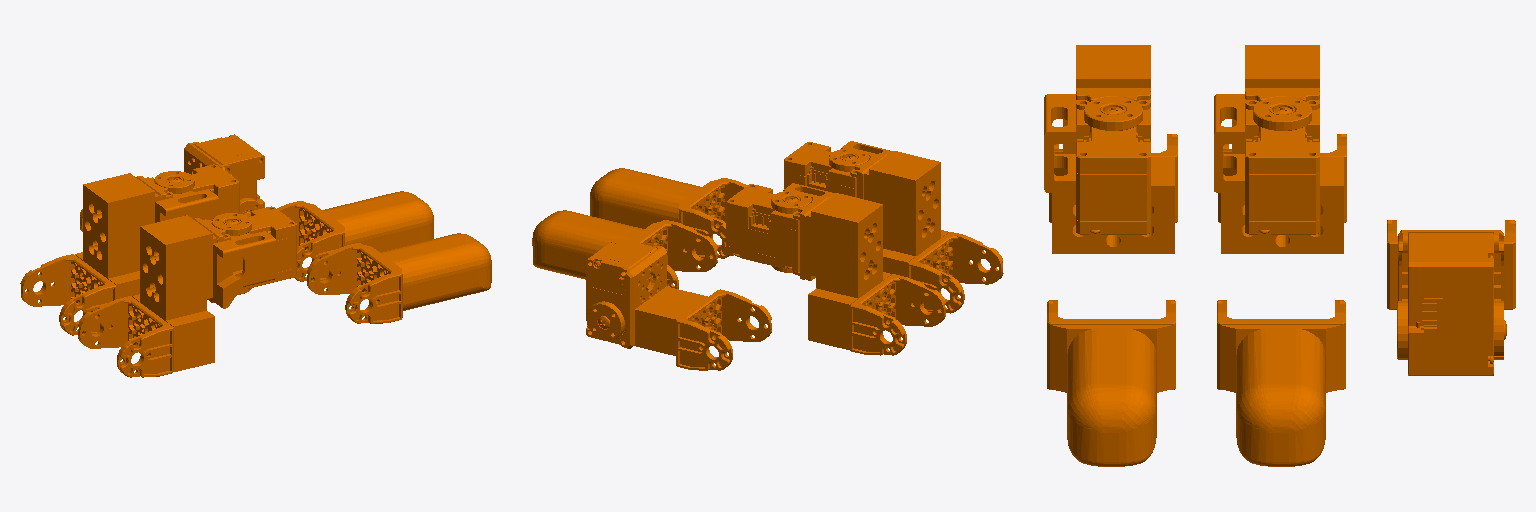
robot.urdf — onshape:
<robot name="onshape">
  <link name="palm_lower">
    <inertial>
      <origin xyz="0.0 0.0 0.0" rpy="0.0 -0.0 0.0"/>
      <mass value="0.237"/>
      <inertia ixx="0.000354094" ixy="-1.193e-06" ixz="-2.445e-06" iyy="0.000260915" iyz="-2.905e-06" izz="0.000529257"/>
    </inertial>
    <visual>
      <geometry>
        <mesh filename="../assets/leap/leap_hand/palm_lower.stl"/>
      </geometry>
      <origin xyz="-0.020095249652862544 0.025757756134899473 -0.034722403578460216" rpy="0.0 -0.0 0.0"/>
      <material name="palm_lower_material">
        <color rgba="0.6039215686274509 0.14901960784313725 0.14901960784313725 1.0"/>
      </material>
    </visual>
    <collision>
      <geometry>
        <mesh filename="../assets/leap/leap_hand/palm_lower.stl"/>
      </geometry>
      <origin xyz="-0.020095249652862544 0.025757756134899473 -0.034722403578460216" rpy="0.0 -0.0 0.0"/>
    </collision>
  </link>
  <link name="mcp_joint">
    <inertial>
      <origin xyz="0.0 0.0 0.0" rpy="0.0 -0.0 0.0"/>
      <mass value="0.044"/>
      <inertia ixx="1.1499e-05" ixy="3.049e-06" ixz="1.21e-07" iyy="7.796e-06" iyz="1.12e-07" izz="1.4759e-05"/>
    </inertial>
    <visual>
      <geometry>
        <mesh filename="../assets/leap/leap_hand/mcp_joint.stl"/>
      </geometry>
      <origin xyz="0.008406902261174496 0.0077662438597169954 0.014657354985032912" rpy="1.6375789613221e-15 -1.021047330249102e-30 1.7177968783327987e-31"/>
      <material name="mcp_joint_material">
        <color rgba="0.8666666666666667 0.8666666666666667 0.050980392156862744 1.0"/>
      </material>
    </visual>
    <collision>
      <geometry>
        <mesh filename="../assets/leap/leap_hand/mcp_joint.stl"/>
      </geometry>
      <origin xyz="0.008406902261174496 0.0077662438597169954 0.014657354985032912" rpy="1.6375789613221e-15 -1.021047330249102e-30 1.7177968783327987e-31"/>
    </collision>
  </link>
  <link name="pip">
    <inertial>
      <origin xyz="0.0 0.0 0.0" rpy="0.0 -0.0 0.0"/>
      <mass value="0.032"/>
      <inertia ixx="4.798e-06" ixy="1.2e-08" ixz="4e-09" iyy="2.862e-06" iyz="1.1e-08" izz="4.234e-06"/>
    </inertial>
    <visual>
      <geometry>
        <mesh filename="../assets/leap/leap_hand/pip.stl"/>
      </geometry>
      <origin xyz="0.009643363092271328 0.0002999999999999895 0.0007840340104173765" rpy="-1.5707963267948966 -1.5707963267948963 0.0"/>
      <material name="pip_material">
        <color rgba="0.7490196078431373 0.7490196078431373 0.7490196078431373 1.0"/>
      </material>
    </visual>
    <collision>
      <geometry>
        <mesh filename="../assets/leap/leap_hand/pip.stl"/>
      </geometry>
      <origin xyz="0.009643363092271328 0.0002999999999999895 0.0007840340104173765" rpy="-1.5707963267948966 -1.5707963267948963 0.0"/>
    </collision>
  </link>
  <link name="dip_long">
    <inertial>
      <origin xyz="0.0 0.0 0.0" rpy="0.0 -0.0 0.0"/>
      <mass value="0.037"/>
      <inertia ixx="5.542e-06" ixy="-6.07e-07" ixz="-1.7e-08" iyy="5.727e-06" iyz="-2.3e-08" izz="6.682e-06"/>
    </inertial>
    <visual>
      <geometry>
        <mesh filename="custom_models/dip_long.stl"/>
      </geometry>
      <origin xyz="0.021133352895225003 -0.00843211914670488 0.00978508816209524" rpy="-3.141592653589793 4.507511124216441e-32 4.439548105392361e-32"/>
      <material name="dip_material">
        <color rgba="0.878 0.467 0.0 1.0"/>
      </material>
    </visual>
    <collision>
      <geometry>
        <mesh filename="custom_models/dip_long.stl"/>
      </geometry>
      <origin xyz="0.021133352895225003 -0.00843211914670488 0.00978508816209524" rpy="-3.141592653589793 4.507511124216441e-32 4.439548105392361e-32"/>
    </collision>
  </link>
  <link name="fingertip">
    <inertial>
      <origin xyz="0.0 0.0 0.0" rpy="0.0 -0.0 0.0"/>
      <mass value="0.016"/>
      <inertia ixx="3.368e-06" ixy="1.15e-07" ixz="0.0" iyy="1.556e-06" iyz="0.0" izz="2.863e-06"/>
    </inertial>
    <visual>
      <geometry>
        <mesh filename="../assets/leap/leap_hand/fingertip.stl"/>
      </geometry>
      <origin xyz="0.013286424108533503 -0.006114238386541987 0.014499999999999498" rpy="3.141592653589793 1.1993117970061735e-33 4.439548105392361e-32"/>
      <material name="fingertip_material">
        <color rgba="0.8666666666666667 0.8666666666666667 0.050980392156862744 1.0"/>
      </material>
    </visual>
    <collision>
      <geometry>
        <mesh filename="../assets/leap/leap_hand/fingertip.stl"/>
      </geometry>
      <origin xyz="0.013286424108533503 -0.006114238386541987 0.014499999999999498" rpy="3.141592653589793 1.1993117970061735e-33 4.439548105392361e-32"/>
    </collision>
  </link>
  <link name="pip_4">
    <inertial>
      <origin xyz="0.0 0.0 0.0" rpy="0.0 -0.0 0.0"/>
      <mass value="0.032"/>
      <inertia ixx="4.798e-06" ixy="1.2e-08" ixz="4e-09" iyy="2.862e-06" iyz="1.1e-08" izz="4.234e-06"/>
    </inertial>
    <visual>
      <geometry>
        <mesh filename="../assets/leap/leap_hand/pip.stl"/>
      </geometry>
      <origin xyz="-0.005356636907728671 0.0002999999999999999 0.0007840340104173782" rpy="-1.5707963267948966 -1.5707963267948963 0.0"/>
      <material name="pip_material">
        <color rgba="0.7490196078431373 0.7490196078431373 0.7490196078431373 1.0"/>
      </material>
    </visual>
    <collision>
      <geometry>
        <mesh filename="../assets/leap/leap_hand/pip.stl"/>
      </geometry>
      <origin xyz="-0.005356636907728671 0.0002999999999999999 0.0007840340104173782" rpy="-1.5707963267948966 -1.5707963267948963 0.0"/>
    </collision>
  </link>
  <link name="thumb_pip">
    <inertial>
      <origin xyz="0.0 0.0 0.0" rpy="0.0 -0.0 0.0"/>
      <mass value="0.003"/>
      <inertia ixx="5.93e-07" ixy="0.0" ixz="0.0" iyy="5.49e-07" iyz="0.0" izz="2.24e-07"/>
    </inertial>
    <visual>
      <geometry>
        <mesh filename="../assets/leap/leap_hand/thumb_pip.stl"/>
      </geometry>
      <origin xyz="0.011961920770611187 -5.30825383648903e-16 -0.0158526489566642" rpy="1.5707963267948966 1.6050198443300153e-46 -3.9204996250525193e-59"/>
      <material name="thumb_pip_material">
        <color rgba="0.8666666666666667 0.8666666666666667 0.050980392156862744 1.0"/>
      </material>
    </visual>
    <collision>
      <geometry>
        <mesh filename="../assets/leap/leap_hand/thumb_pip.stl"/>
      </geometry>
      <origin xyz="0.011961920770611187 -5.30825383648903e-16 -0.0158526489566642" rpy="1.5707963267948966 1.6050198443300153e-46 -3.9204996250525193e-59"/>
    </collision>
  </link>
  <link name="thumb_dip">
    <inertial>
      <origin xyz="0.0 0.0 0.0" rpy="0.0 -0.0 0.0"/>
      <mass value="0.038"/>
      <inertia ixx="8.474e-06" ixy="2.41e-07" ixz="2.6e-08" iyy="3.841e-06" iyz="2.5e-08" izz="7.679e-06"/>
    </inertial>
    <visual>
      <geometry>
        <mesh filename="../assets/leap/leap_hand/thumb_dip.stl"/>
      </geometry>
      <origin xyz="0.043968715707239175 0.0579529529737092 -0.008628676449369476" rpy="1.94289029309401e-16 3.27515792264422e-15 1.112375852965736e-46"/>
      <material name="thumb_dip_material">
        <color rgba="0.8666666666666667 0.8666666666666667 0.050980392156862744 1.0"/>
      </material>
    </visual>
    <collision>
      <geometry>
        <mesh filename="../assets/leap/leap_hand/thumb_dip.stl"/>
      </geometry>
      <origin xyz="0.043968715707239175 0.0579529529737092 -0.008628676449369476" rpy="1.94289029309401e-16 3.27515792264422e-15 1.112375852965736e-46"/>
    </collision>
  </link>
  <link name="thumb_fingertip">
    <inertial>
      <origin xyz="0.0 0.0 0.0" rpy="0.0 -0.0 0.0"/>
      <mass value="0.049"/>
      <inertia ixx="2.0372e-05" ixy="-4.89e-07" ixz="-3e-08" iyy="4.336e-06" iyz="-9.7e-08" izz="1.9845e-05"/>
    </inertial>
    <visual>
      <geometry>
        <mesh filename="../assets/leap/leap_hand/thumb_fingertip.stl"/>
      </geometry>
      <origin xyz="0.06255953846266739 0.07845968291139699 0.048992911807332215" rpy="4.379057701015637e-47 -3.33066907387547e-16 1.2042408677791935e-46"/>
      <material name="thumb_fingertip_material">
        <color rgba="0.6039215686274509 0.14901960784313725 0.14901960784313725 1.0"/>
      </material>
    </visual>
    <collision>
      <geometry>
        <mesh filename="../assets/leap/leap_hand/thumb_fingertip.stl"/>
      </geometry>
      <origin xyz="0.06255953846266739 0.07845968291139699 0.048992911807332215" rpy="4.379057701015637e-47 -3.33066907387547e-16 1.2042408677791935e-46"/>
    </collision>
  </link>
  <link name="mcp_joint_2_long">
    <inertial>
      <origin xyz="0.0 0.0 0.0" rpy="0.0 -0.0 0.0"/>
      <mass value="0.044"/>
      <inertia ixx="1.1499e-05" ixy="3.049e-06" ixz="1.21e-07" iyy="7.796e-06" iyz="1.12e-07" izz="1.4759e-05"/>
    </inertial>
    <visual>
      <geometry>
        <mesh filename="custom_models/mcp_joint_long.stl"/>
      </geometry>
      <origin xyz="0.008406902261174496 0.0077662438597169954 0.014657354985032914" rpy="1.6375789613221e-15 -1.0076465469034e-30 2.1209300131419907e-61"/>
      <material name="mcp_joint_material">
        <color rgba="0.878 0.467 0.0 1.0"/>
      </material>
    </visual>
    <collision>
      <geometry>
        <mesh filename="custom_models/mcp_joint_long.stl"/>
      </geometry>
      <origin xyz="0.008406902261174496 0.0077662438597169954 0.014657354985032914" rpy="1.6375789613221e-15 -1.0076465469034e-30 2.1209300131419907e-61"/>
    </collision>
  </link>
  <link name="pip_2">
    <inertial>
      <origin xyz="0.0 0.0 0.0" rpy="0.0 -0.0 0.0"/>
      <mass value="0.032"/>
      <inertia ixx="4.798e-06" ixy="1.2e-08" ixz="4e-09" iyy="2.862e-06" iyz="1.1e-08" izz="4.234e-06"/>
    </inertial>
    <visual>
      <geometry>
        <mesh filename="../assets/leap/leap_hand/pip.stl"/>
      </geometry>
      <origin xyz="0.009643363092271328 0.0002999999999999947 0.0007840340104173765" rpy="-1.5707963267948966 -1.5707963267948963 0.0"/>
      <material name="pip_material">
        <color rgba="0.7490196078431373 0.7490196078431373 0.7490196078431373 1.0"/>
      </material>
    </visual>
    <collision>
      <geometry>
        <mesh filename="../assets/leap/leap_hand/pip.stl"/>
      </geometry>
      <origin xyz="0.009643363092271328 0.0002999999999999947 0.0007840340104173765" rpy="-1.5707963267948966 -1.5707963267948963 0.0"/>
    </collision>
  </link>
  <link name="dip_2">
    <inertial>
      <origin xyz="0.0 0.0 0.0" rpy="0.0 -0.0 0.0"/>
      <mass value="0.037"/>
      <inertia ixx="5.542e-06" ixy="-6.07e-07" ixz="-1.7e-08" iyy="5.727e-06" iyz="-2.3e-08" izz="6.682e-06"/>
    </inertial>
    <visual>
      <geometry>
        <mesh filename="../assets/leap/leap_hand/dip.stl"/>
      </geometry>
      <origin xyz="0.021133352895225003 -0.008432119146704865 0.009785088162095237" rpy="-3.141592653589793 2.1146933785271956e-32 1.4408183216511869e-31"/>
      <material name="dip_material">
        <color rgba="0.8666666666666667 0.8666666666666667 0.050980392156862744 1.0"/>
      </material>
    </visual>
    <collision>
      <geometry>
        <mesh filename="../assets/leap/leap_hand/dip.stl"/>
      </geometry>
      <origin xyz="0.021133352895225003 -0.008432119146704865 0.009785088162095237" rpy="-3.141592653589793 2.1146933785271956e-32 1.4408183216511869e-31"/>
    </collision>
  </link>
  <link name="fingertip_2_long">
    <inertial>
      <origin xyz="0.0 0.0 0.0" rpy="0.0 -0.0 0.0"/>
      <mass value="0.016"/>
      <inertia ixx="3.368e-06" ixy="1.15e-07" ixz="0.0" iyy="1.556e-06" iyz="0.0" izz="2.863e-06"/>
    </inertial>
    <visual>
      <geometry>
        <mesh filename="custom_models/fingertip_long.stl"/>
      </geometry>
      <origin xyz="0.013286424108533496 -0.006114238386542001 0.014499999999999496" rpy="3.141592653589793 -4.317959788283594e-33 1.4408183216511869e-31"/>
      <material name="fingertip_material">
        <color rgba="0.878 0.467 0.0 1.0"/>
      </material>
    </visual>
    <collision>
      <geometry>
        <mesh filename="custom_models/fingertip_long.stl"/>
      </geometry>
      <origin xyz="0.013286424108533496 -0.006114238386542001 0.014499999999999496" rpy="3.141592653589793 -4.317959788283594e-33 1.4408183216511869e-31"/>
    </collision>
  </link>
  <link name="mcp_joint_3_long">
    <inertial>
      <origin xyz="0.0 0.0 0.0" rpy="0.0 -0.0 0.0"/>
      <mass value="0.044"/>
      <inertia ixx="1.1499e-05" ixy="3.049e-06" ixz="1.21e-07" iyy="7.796e-06" iyz="1.12e-07" izz="1.4759e-05"/>
    </inertial>
    <visual>
      <geometry>
        <mesh filename="custom_models/mcp_joint_long.stl"/>
      </geometry>
      <origin xyz="0.0084069022611745 0.007766243859716996 0.014657354985032914" rpy="1.6375789613221e-15 -1.0059504988632627e-30 5.729641584552035e-32"/>
      <material name="mcp_joint_material">
        <color rgba="0.878 0.467 0.0 1.0"/>
      </material>
    </visual>
    <collision>
      <geometry>
        <mesh filename="custom_models/mcp_joint_long.stl"/>
      </geometry>
      <origin xyz="0.0084069022611745 0.007766243859716996 0.014657354985032914" rpy="1.6375789613221e-15 -1.0059504988632627e-30 5.729641584552035e-32"/>
    </collision>
  </link>
  <link name="pip_3">
    <inertial>
      <origin xyz="0.0 0.0 0.0" rpy="0.0 -0.0 0.0"/>
      <mass value="0.032"/>
      <inertia ixx="4.798e-06" ixy="1.2e-08" ixz="4e-09" iyy="2.862e-06" iyz="1.1e-08" izz="4.234e-06"/>
    </inertial>
    <visual>
      <geometry>
        <mesh filename="../assets/leap/leap_hand/pip.stl"/>
      </geometry>
      <origin xyz="0.009643363092271331 0.00029999999999998084 0.0007840340104173765" rpy="-1.5707963267948966 -1.5707963267948963 0.0"/>
      <material name="pip_material">
        <color rgba="0.7490196078431373 0.7490196078431373 0.7490196078431373 1.0"/>
      </material>
    </visual>
    <collision>
      <geometry>
        <mesh filename="../assets/leap/leap_hand/pip.stl"/>
      </geometry>
      <origin xyz="0.009643363092271331 0.00029999999999998084 0.0007840340104173765" rpy="-1.5707963267948966 -1.5707963267948963 0.0"/>
    </collision>
  </link>
  <link name="dip_3">
    <inertial>
      <origin xyz="0.0 0.0 0.0" rpy="0.0 -0.0 0.0"/>
      <mass value="0.037"/>
      <inertia ixx="5.542e-06" ixy="-6.07e-07" ixz="-1.7e-08" iyy="5.727e-06" iyz="-2.3e-08" izz="6.682e-06"/>
    </inertial>
    <visual>
      <geometry>
        <mesh filename="../assets/leap/leap_hand/dip.stl"/>
      </geometry>
      <origin xyz="0.021133352895225006 -0.008432119146704865 0.009785088162095237" rpy="-3.141592653589793 -1.4095651113919093e-33 1.5565411607615035e-32"/>
      <material name="dip_material">
        <color rgba="0.8666666666666667 0.8666666666666667 0.050980392156862744 1.0"/>
      </material>
    </visual>
    <collision>
      <geometry>
        <mesh filename="../assets/leap/leap_hand/dip.stl"/>
      </geometry>
      <origin xyz="0.021133352895225006 -0.008432119146704865 0.009785088162095237" rpy="-3.141592653589793 -1.4095651113919093e-33 1.5565411607615035e-32"/>
    </collision>
  </link>
  <link name="fingertip_3_long">
    <inertial>
      <origin xyz="0.0 0.0 0.0" rpy="0.0 -0.0 0.0"/>
      <mass value="0.016"/>
      <inertia ixx="3.368e-06" ixy="1.15e-07" ixz="0.0" iyy="1.556e-06" iyz="0.0" izz="2.863e-06"/>
    </inertial>
    <visual>
      <geometry>
        <mesh filename="custom_models/fingertip_long.stl"/>
      </geometry>
      <origin xyz="0.013286424108533501 -0.006114238386541987 0.0144999999999995" rpy="3.141592653589793 8.61707169505754e-33 1.5565411607615035e-32"/>
      <material name="fingertip_material">
        <color rgba="0.878 0.467 0.0 1.0"/>
      </material>
    </visual>
    <collision>
      <geometry>
        <mesh filename="custom_models/fingertip_long.stl"/>
      </geometry>
      <origin xyz="0.013286424108533501 -0.006114238386541987 0.0144999999999995" rpy="3.141592653589793 8.61707169505754e-33 1.5565411607615035e-32"/>
    </collision>
  </link>
  <joint name="1" type="revolute">
    <parent link="palm_lower"/>
    <child link="mcp_joint"/>
    <origin xyz="-0.007095249652862546 0.023057756134899472 -0.01872240357846022" rpy="1.570796326794895 1.5707963267948946 0.0"/>
    <axis xyz="0.0 0.0 -1.0"/>
    <limit effort="0.95" velocity="8.48" lower="-0.314" upper="2.23"/>
  </joint>
  <joint name="0" type="revolute">
    <parent link="mcp_joint"/>
    <child link="pip"/>
    <origin xyz="-0.012200000000000008 0.038099999999999995 0.0145" rpy="-1.5707963267948966 -1.0065212660796337e-15 1.5707963267948943"/>
    <axis xyz="0.0 0.0 -1.0"/>
    <limit effort="0.95" velocity="8.48" lower="-1.047" upper="1.047"/>
  </joint>
  <joint name="2" type="revolute">
    <parent link="pip"/>
    <child link="dip_long"/>
    <origin xyz="0.014999999999999968 0.014299999999999905 -0.012999999999999824" rpy="1.570796326794896 -1.5707963267948963 0.0"/>
    <axis xyz="0.0 0.0 -1.0"/>
    <limit effort="0.95" velocity="8.48" lower="-0.506" upper="1.885"/>
  </joint>
  <joint name="3" type="revolute">
    <parent link="dip_long"/>
    <child link="fingertip"/>
    <origin xyz="-4.0880582495572692636e-09 -0.051100004210367367397 0.00020000000000007858714" rpy="4.5935029425113685e-17 -2.8730071914463795e-16 4.439548105392361e-32"/>
    <axis xyz="0.0 0.0 -1.0"/>
    <limit effort="0.95" velocity="8.48" lower="-0.366" upper="2.042"/>
  </joint>
  <joint name="12" type="revolute">
    <parent link="palm_lower"/>
    <child link="pip_4"/>
    <origin xyz="-0.06939524965286253 -0.0012422438651005258 -0.021622403578460216" rpy="-8.238176646493942e-17 1.5707963267948957 0.0"/>
    <axis xyz="0.0 0.0 -1.0"/>
    <limit effort="0.95" velocity="8.48" lower="-0.349" upper="2.094"/>
  </joint>
  <joint name="13" type="revolute">
    <parent link="pip_4"/>
    <child link="thumb_pip"/>
    <origin xyz="-2.7755575615628914e-17 0.014300000000000005 -0.013000000000000012" rpy="1.570796326794896 -1.5707963267948963 0.0"/>
    <axis xyz="0.0 0.0 -1.0"/>
    <limit effort="0.95" velocity="8.48" lower="-0.47" upper="2.443"/>
  </joint>
  <joint name="14" type="revolute">
    <parent link="thumb_pip"/>
    <child link="thumb_dip"/>
    <origin xyz="0.0 0.014499999999999966 -0.017000000000000053" rpy="-1.5707963267948966 1.6050198443300131e-46 -1.9721522630516625e-31"/>
    <axis xyz="0.0 0.0 -1.0"/>
    <limit effort="0.95" velocity="8.48" lower="-1.2" upper="1.9"/>
  </joint>
  <joint name="15" type="revolute">
    <parent link="thumb_dip"/>
    <child link="thumb_fingertip"/>
    <origin xyz="-1.249000902703301e-16 0.046599999999999864 0.0001999999999999771" rpy="1.506395849149178e-44 5.423418723393526e-31 3.141592653589793"/>
    <axis xyz="0.0 0.0 -1.0"/>
    <limit effort="0.95" velocity="8.48" lower="-1.34" upper="1.88"/>
  </joint>
  <joint name="5" type="revolute">
    <parent link="palm_lower"/>
    <child link="mcp_joint_2_long"/>
    <origin xyz="-0.007095249652862546 -0.022392243865100525 -0.01872240357846022" rpy="1.570796326794895 1.5707963267948946 0.0"/>
    <axis xyz="0.0 0.0 -1.0"/>
    <limit effort="0.95" velocity="8.48" lower="-0.314" upper="2.23"/>
  </joint>
  <joint name="4" type="revolute">
    <parent link="mcp_joint_2_long"/>
    <child link="pip_2"/>
    <origin xyz="-0.012200000000000007713 0.053099999999999994982 0.014500000000000000736" rpy="-1.5707963267948966 -1.0065212660796337e-15 1.5707963267948943"/>
    <axis xyz="0.0 0.0 -1.0"/>
    <limit effort="0.95" velocity="8.48" lower="-1.047" upper="1.047"/>
  </joint>
  <joint name="6" type="revolute">
    <parent link="pip_2"/>
    <child link="dip_2"/>
    <origin xyz="0.014999999999999968 0.014299999999999905 -0.012999999999999824" rpy="1.570796326794896 -1.5707963267948963 0.0"/>
    <axis xyz="0.0 0.0 -1.0"/>
    <limit effort="0.95" velocity="8.48" lower="-0.506" upper="1.885"/>
  </joint>
  <joint name="7" type="revolute">
    <parent link="dip_2"/>
    <child link="fingertip_2_long"/>
    <origin xyz="-4.088058249557269e-09 -0.03610000421036737 0.0002000000000000786" rpy="4.5935029425113685e-17 -2.8730071914463795e-16 4.439548105392361e-32"/>
    <axis xyz="0.0 0.0 -1.0"/>
    <limit effort="0.95" velocity="8.48" lower="-0.366" upper="2.042"/>
  </joint>
  <joint name="9" type="revolute">
    <parent link="palm_lower"/>
    <child link="mcp_joint_3_long"/>
    <origin xyz="-0.007095249652862546 -0.06784224386510052 -0.01872240357846022" rpy="1.570796326794895 1.5707963267948946 0.0"/>
    <axis xyz="0.0 0.0 -1.0"/>
    <limit effort="0.95" velocity="8.48" lower="-0.314" upper="2.23"/>
  </joint>
  <joint name="8" type="revolute">
    <parent link="mcp_joint_3_long"/>
    <child link="pip_3"/>
    <origin xyz="-0.012200000000000007713 0.053099999999999994982 0.014500000000000000736" rpy="-1.5707963267948966 -1.0065212660796337e-15 1.5707963267948943"/>
    <axis xyz="0.0 0.0 -1.0"/>
    <limit effort="0.95" velocity="8.48" lower="-1.047" upper="1.047"/>
  </joint>
  <joint name="10" type="revolute">
    <parent link="pip_3"/>
    <child link="dip_3"/>
    <origin xyz="0.014999999999999968 0.014299999999999905 -0.012999999999999824" rpy="1.570796326794896 -1.5707963267948963 0.0"/>
    <axis xyz="0.0 0.0 -1.0"/>
    <limit effort="0.95" velocity="8.48" lower="-0.506" upper="1.885"/>
  </joint>
  <joint name="11" type="revolute">
    <parent link="dip_3"/>
    <child link="fingertip_3_long"/>
    <origin xyz="-4.088058249557269e-09 -0.03610000421036737 0.0002000000000000786" rpy="4.5935029425113685e-17 -2.8730071914463795e-16 4.439548105392361e-32"/>
    <axis xyz="0.0 0.0 -1.0"/>
    <limit effort="0.95" velocity="8.48" lower="-0.366" upper="2.042"/>
  </joint>
</robot>

--- Facts derived from the render (not from the file) ---
3 views of the same robot in one strip: view 1: azimuth 30°, elevation 25°; view 2: azimuth 150°, elevation 25°; view 3: azimuth 270°, elevation 25° (orthographic).
Model onshape with 17 links and 16 joints (16 revolute), rooted at palm_lower, posed every joint at zero.
Links seen in each view (by area): view 1: mcp_joint_3_long, mcp_joint_2_long, fingertip_3_long, fingertip_2_long, dip_long; view 2: mcp_joint_2_long, mcp_joint_3_long, dip_long, fingertip_2_long, fingertip_3_long; view 3: mcp_joint_3_long, mcp_joint_2_long, dip_long, fingertip_2_long, fingertip_3_long.
Boxes of the visible links, x1,y1,x2,y2 form: mcp_joint_3_long: (78, 206, 296, 377); mcp_joint_2_long: (20, 164, 239, 335); fingertip_3_long: (307, 233, 491, 323); fingertip_2_long: (277, 191, 433, 281); dip_long: (80, 134, 264, 231); mcp_joint_2_long: (726, 183, 945, 355); mcp_joint_3_long: (784, 141, 1003, 313); dip_long: (586, 238, 771, 370); fingertip_2_long: (532, 210, 717, 288); fingertip_3_long: (590, 168, 747, 258); mcp_joint_3_long: (1044, 45, 1177, 253); mcp_joint_2_long: (1214, 45, 1346, 253); dip_long: (1387, 220, 1515, 375); fingertip_2_long: (1217, 300, 1345, 466); fingertip_3_long: (1047, 300, 1175, 466).
Size in the robot's own frame: 0.1766 by 0.1265 by 0.0549 metres.
Meshes: 11 distinct files referenced, 5 mesh visuals loaded (3 binary STL); not drawn: 12 (reference not matched to a file when rendering).